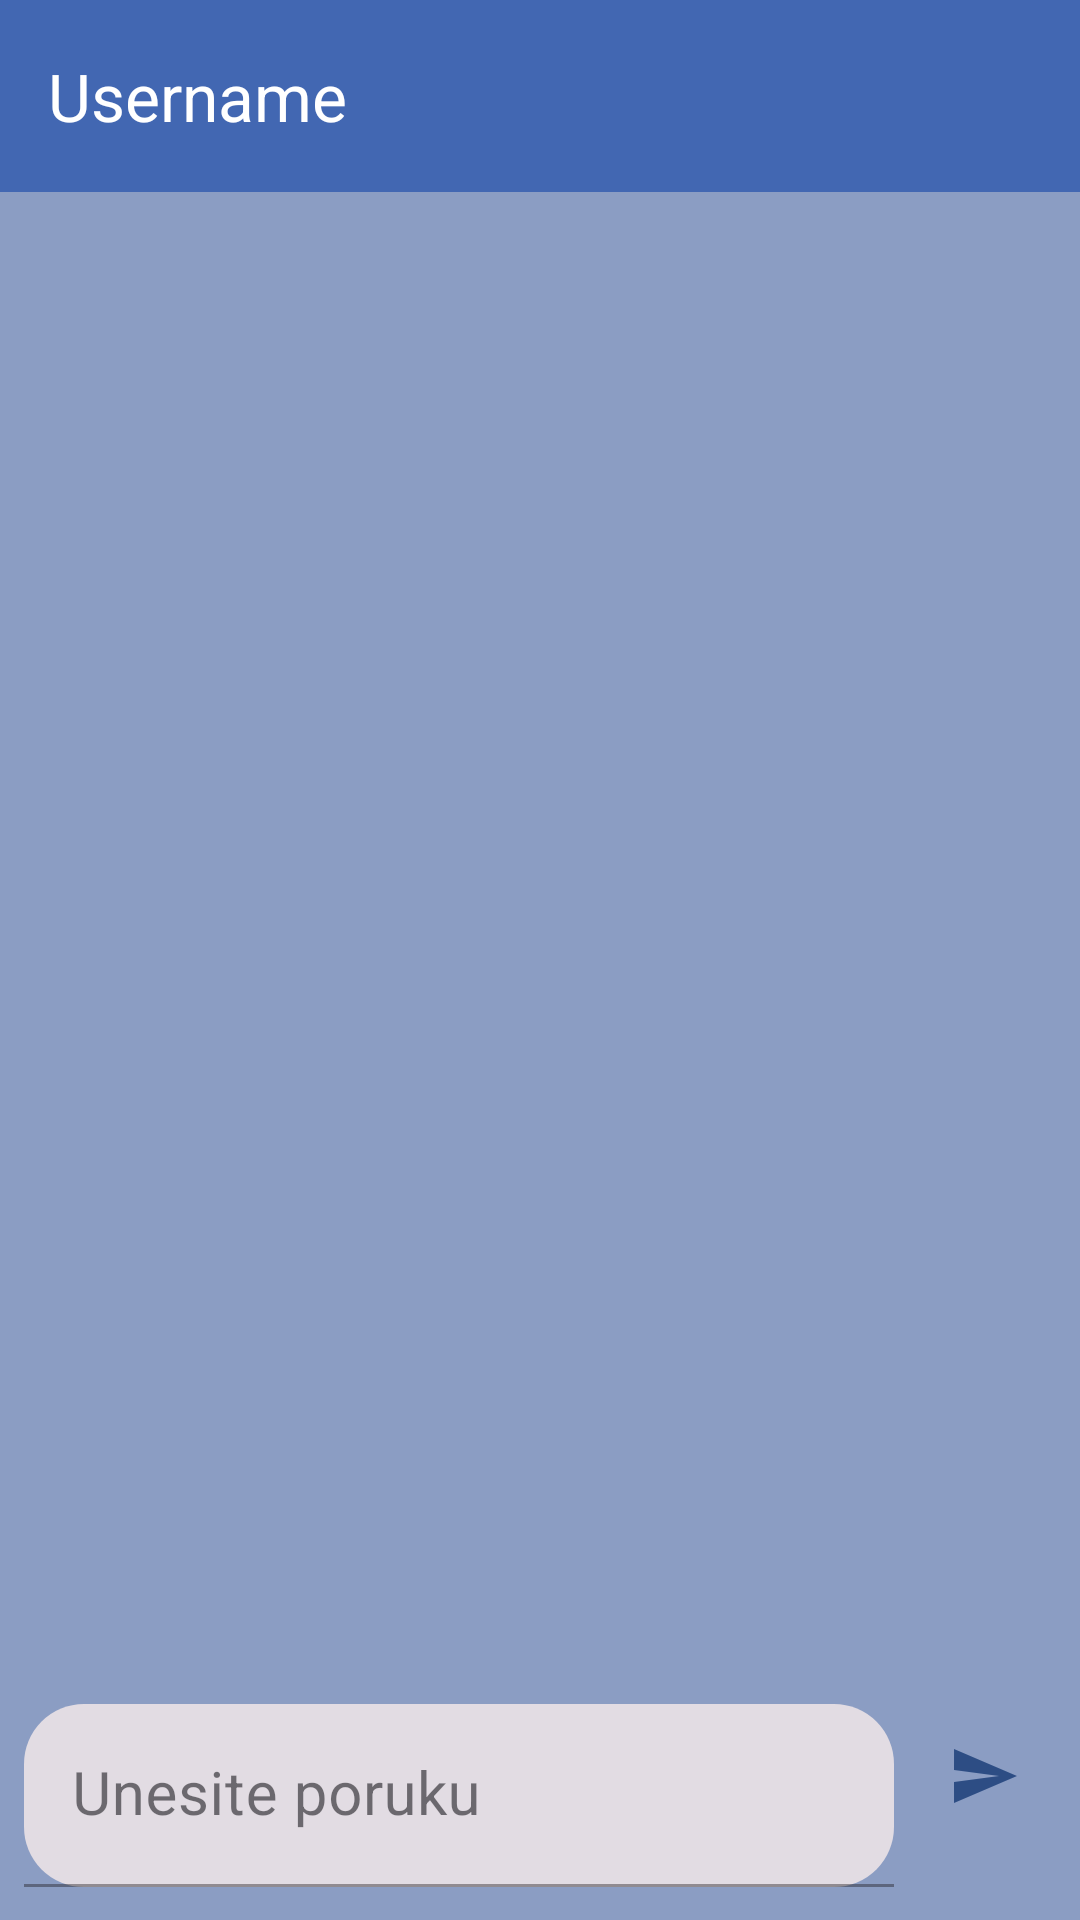

Point at icon controls on the screen. Image size 1080x1920, points as (x,y).
prosledi: (985,1776)
